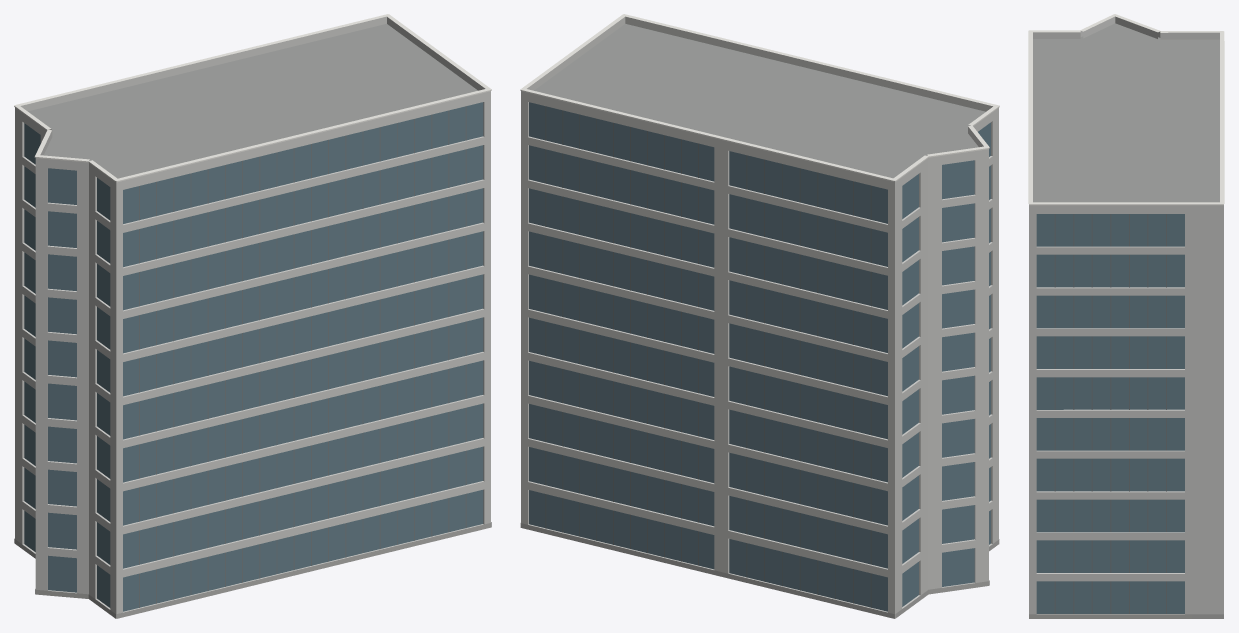
3 views of the same model, side by side, from view 1: azimuth 30°, elevation 25°; view 2: azimuth 150°, elevation 25°; view 3: azimuth 270°, elevation 25° (orthographic). The views are drawn at different scales.
Parts seen in each view (by area): view 1: paul__glass, paul__wall, paul__roof, paul__frame, paul__parapet, paul__trim, paul__base; view 2: paul__glass, paul__wall, paul__roof, paul__frame, paul__parapet, paul__trim, paul__base; view 3: paul__glass, paul__wall, paul__roof, paul__frame, paul__trim, paul__parapet, paul__base.
Boxes of the visible parts, x1,y1,x2,y2 form: paul__glass: (24, 102, 483, 611); paul__wall: (15, 97, 490, 618); paul__roof: (28, 24, 477, 178); paul__frame: (139, 106, 466, 607); paul__parapet: (15, 16, 490, 187); paul__trim: (14, 14, 491, 182); paul__base: (14, 522, 491, 618); paul__glass: (529, 102, 990, 611); paul__wall: (521, 97, 998, 618); paul__roof: (534, 24, 985, 178); paul__frame: (545, 106, 871, 607); paul__parapet: (521, 16, 998, 187); paul__trim: (520, 14, 999, 181); paul__base: (520, 523, 999, 618); paul__glass: (1036, 214, 1184, 613); paul__wall: (1029, 210, 1223, 614); paul__roof: (1033, 23, 1219, 202); paul__frame: (1054, 214, 1166, 613); paul__trim: (1028, 14, 1224, 205); paul__parapet: (1029, 16, 1223, 210); paul__base: (1029, 614, 1223, 618).
Size of the model in its own units: 36 by 36.6 by 15.7.
